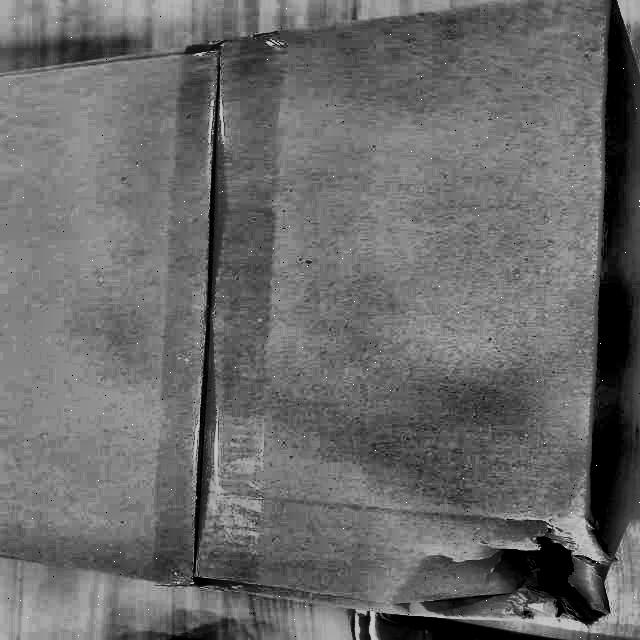box: (1, 0, 640, 627)
hole: (390, 533, 614, 627)
